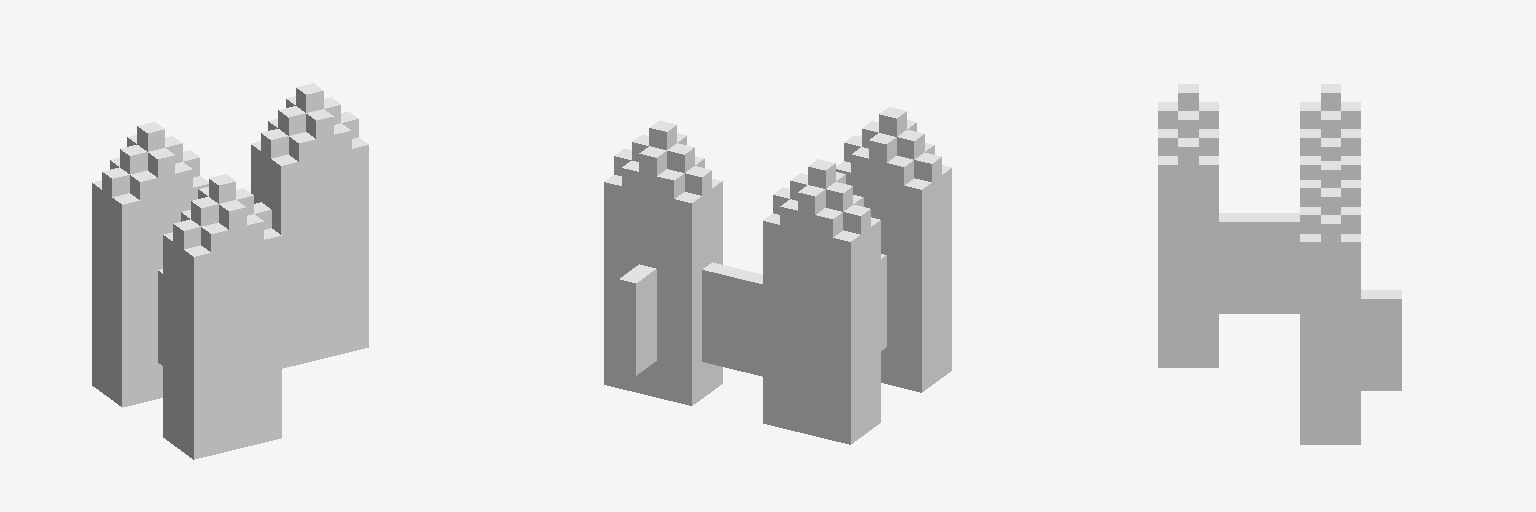
Rendered from fence0.obj.
3 views of the same model, side by side, from view 1: azimuth 30°, elevation 25°; view 2: azimuth 150°, elevation 25°; view 3: azimuth 270°, elevation 25° (orthographic).
Parts seen in each view (by area): view 1: object 1; view 2: object 1; view 3: object 1.
Part boxes in pixels (bbox=[...]): object 1: bbox=[92, 83, 368, 459]; object 1: bbox=[604, 107, 951, 444]; object 1: bbox=[1158, 84, 1401, 444].
Size of the model in its own units: 1.4 by 1.4 by 1.2.